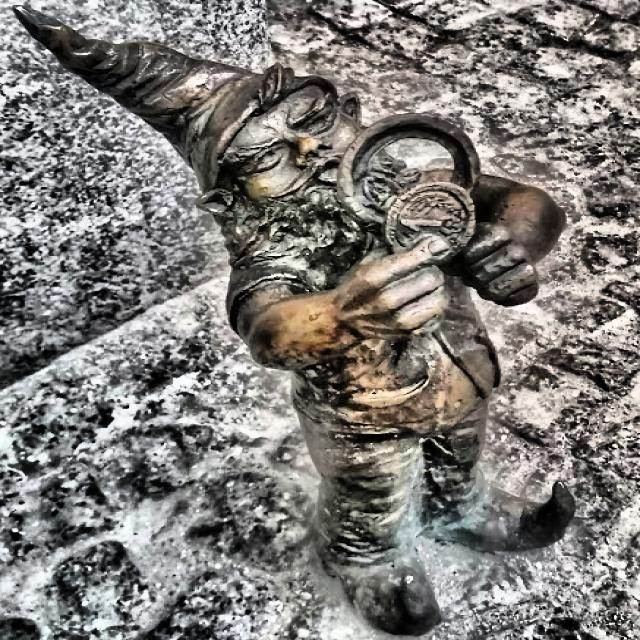Kolekcjoner: (18, 7, 573, 634)
